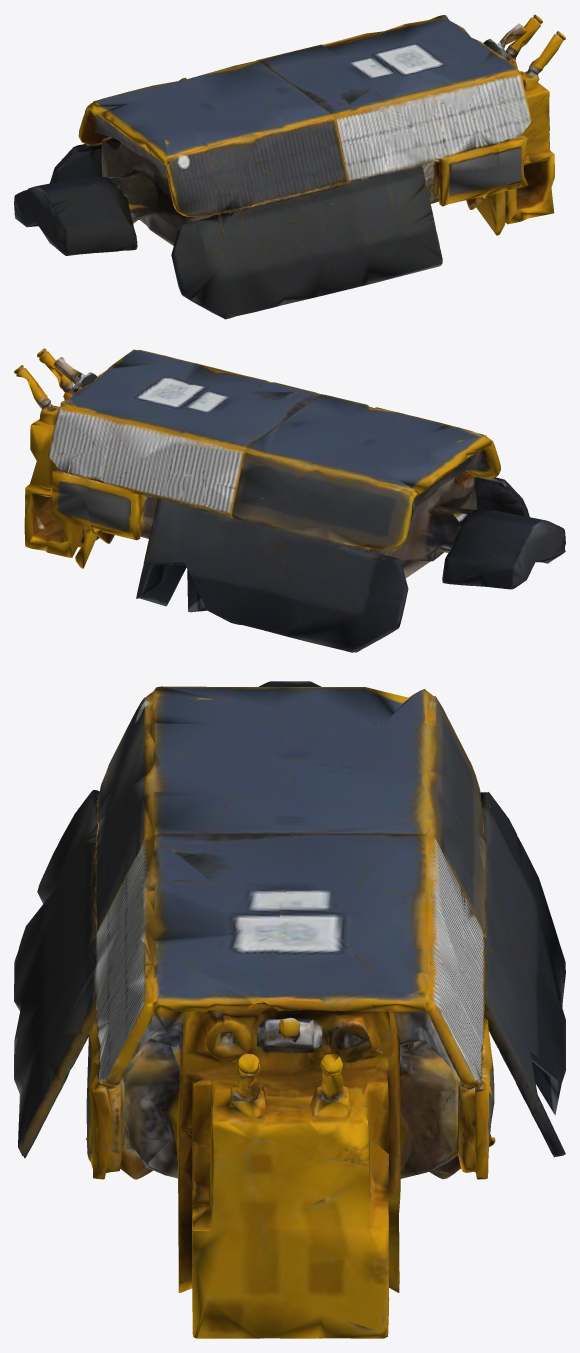
Rendered from truths-low.glb.
3 views of the same model, one above another, from view 1: azimuth 30°, elevation 25°; view 2: azimuth 150°, elevation 25°; view 3: azimuth 270°, elevation 25° (orthographic). The views are drawn at different scales.
Bounding box in the file's own units: 1.9 × 0.6221 × 0.969.
Materials: 1 (1 with a texture image).
